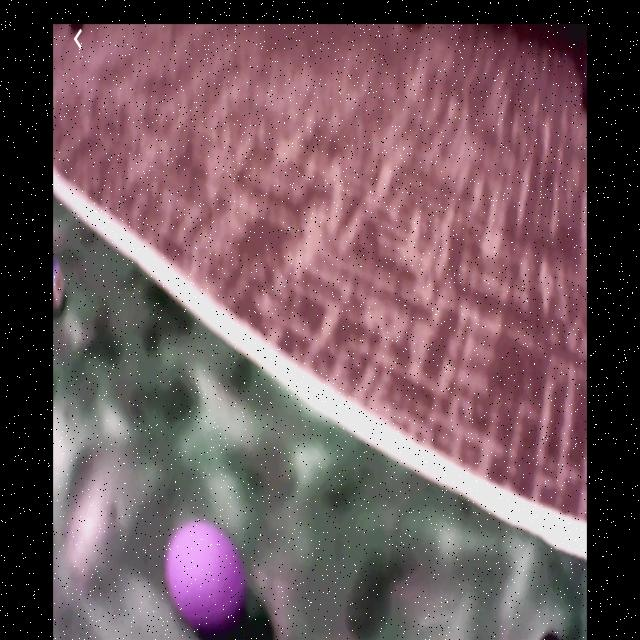ball: (168, 522, 245, 630)
